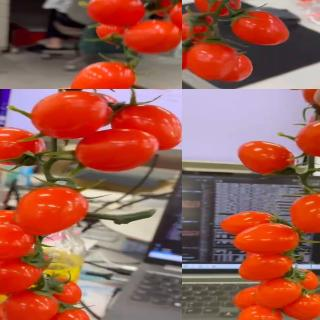tomato: (32, 93, 115, 141), (16, 184, 89, 237), (74, 128, 160, 172), (111, 105, 181, 151), (184, 42, 242, 85), (237, 140, 295, 180), (231, 222, 301, 254), (230, 11, 291, 47), (69, 59, 136, 89), (123, 19, 182, 53), (0, 289, 58, 320), (0, 125, 43, 166), (84, 0, 145, 27), (239, 252, 293, 281), (217, 210, 282, 234), (0, 257, 42, 294), (256, 278, 302, 309), (0, 225, 36, 262), (289, 192, 320, 233), (97, 19, 142, 46), (280, 291, 320, 320), (182, 12, 215, 45), (232, 285, 276, 309), (278, 266, 320, 291), (296, 119, 320, 158), (194, 0, 242, 19), (235, 304, 283, 320), (51, 280, 81, 305), (37, 308, 91, 320), (147, 0, 182, 18), (0, 211, 25, 235), (167, 0, 182, 37)
